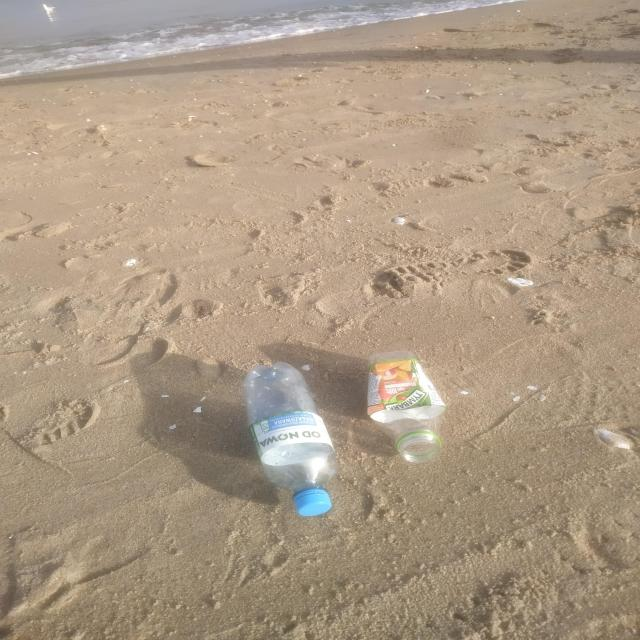litter: (237, 363, 341, 519), (363, 348, 448, 466)
